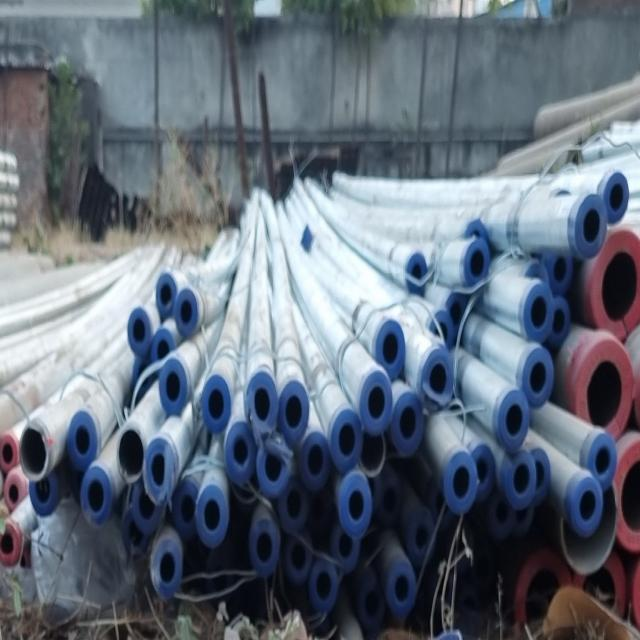pipe: (575, 335, 634, 442), (591, 226, 640, 341), (561, 486, 617, 573), (338, 473, 373, 539), (574, 193, 608, 260), (142, 436, 175, 505), (497, 387, 532, 452), (419, 348, 454, 412), (330, 410, 363, 476), (359, 371, 392, 437), (391, 391, 424, 457), (444, 451, 478, 515), (278, 381, 310, 447), (245, 371, 279, 433), (196, 484, 228, 548), (225, 421, 257, 485), (256, 441, 291, 499), (81, 465, 112, 529), (277, 475, 311, 533), (66, 411, 98, 472), (571, 476, 603, 537), (521, 348, 553, 409), (300, 432, 332, 492), (587, 433, 618, 494), (523, 281, 554, 342), (132, 478, 165, 535), (150, 539, 181, 599), (505, 452, 536, 512), (375, 320, 405, 381), (249, 519, 280, 578), (19, 422, 49, 481), (201, 375, 231, 434), (116, 422, 144, 485), (171, 479, 199, 541), (386, 561, 415, 619), (309, 558, 339, 614), (374, 471, 404, 527), (406, 508, 435, 564), (159, 359, 187, 416), (122, 509, 152, 560), (330, 525, 361, 574), (284, 534, 312, 587), (29, 470, 59, 517), (542, 248, 572, 295), (463, 238, 490, 290), (472, 445, 496, 502), (604, 172, 629, 225), (358, 581, 385, 630), (404, 250, 430, 298), (151, 328, 175, 379), (359, 430, 385, 477), (489, 494, 515, 541), (128, 308, 151, 357), (530, 449, 550, 505), (549, 297, 571, 347), (175, 289, 198, 336), (156, 273, 177, 318), (4, 472, 26, 512), (0, 524, 18, 568), (0, 435, 17, 473)
